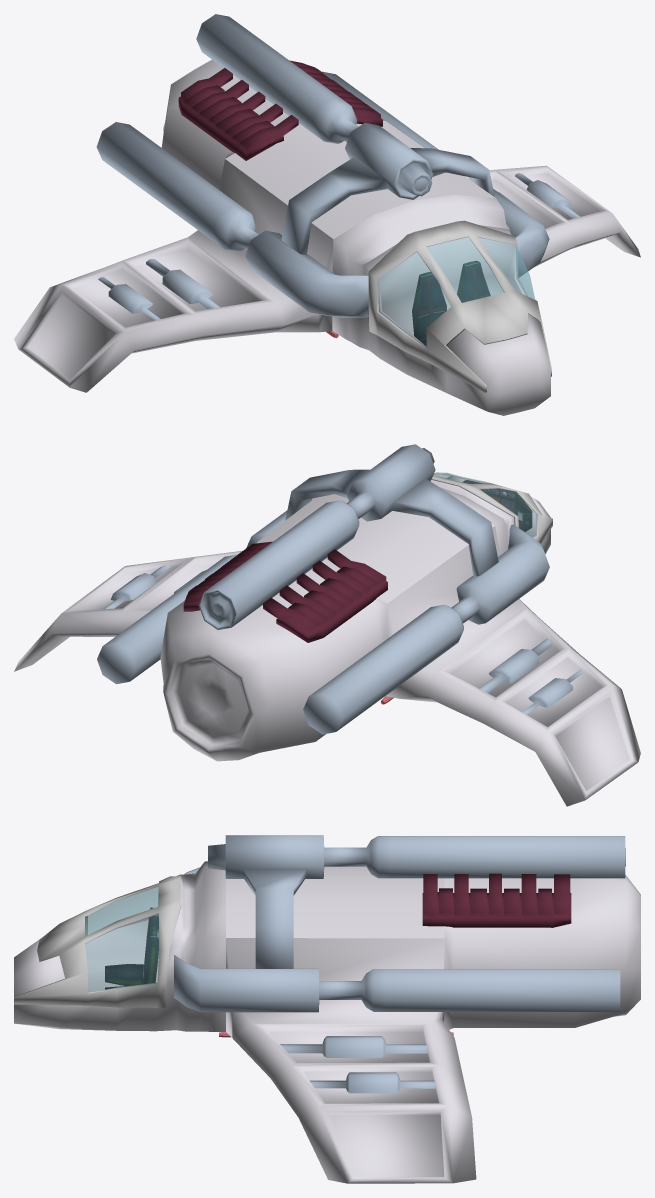
Rendered from Space_Cargo_Ship_FBX.fbx.
3 views of the same model, one above another, from view 1: azimuth 30°, elevation 25°; view 2: azimuth 150°, elevation 25°; view 3: azimuth 270°, elevation 25° (orthographic).
Visible parts, largest first — view 1: ship_body, ship_cabin, Solar_cells_Capacitator, fuel_tank_Left, solar_cells, fuel_tank_Right, ship_Sit, Air_Bust_002, Air_Bust_003, Air_Bust_001; view 2: ship_body, Solar_cells_Capacitator, fuel_tank_Left, solar_cells, fuel_tank_Right, ship_cabin, Air_Bust_002, Panel, Air_Bust_003, Air_Bust_001; view 3: ship_body, Solar_cells_Capacitator, fuel_tank_Right, ship_cabin, solar_cells, Air_Bust, Air_Bust_001, ship_Sit.
Part boxes in pixels (left/top/right/bottom): ship_body: left=14, top=60, right=640, bottom=415; ship_cabin: left=368, top=220, right=551, bottom=392; Solar_cells_Capacitator: left=196, top=14, right=494, bottom=255; fuel_tank_Left: left=96, top=122, right=368, bottom=317; solar_cells: left=178, top=60, right=382, bottom=160; fuel_tank_Right: left=322, top=71, right=549, bottom=277; ship_Sit: left=412, top=260, right=490, bottom=346; Air_Bust_002: left=146, top=259, right=219, bottom=309; Air_Bust_003: left=98, top=277, right=160, bottom=320; Air_Bust_001: left=515, top=173, right=580, bottom=218; ship_body: left=14, top=480, right=640, bottom=806; Solar_cells_Capacitator: left=198, top=444, right=498, bottom=629; fuel_tank_Left: left=303, top=524, right=549, bottom=734; solar_cells: left=183, top=541, right=387, bottom=642; fuel_tank_Right: left=97, top=498, right=314, bottom=684; ship_cabin: left=431, top=472, right=552, bottom=543; Air_Bust_002: left=479, top=639, right=551, bottom=692; Panel: left=463, top=480, right=532, bottom=531; Air_Bust_003: left=522, top=669, right=583, bottom=714; Air_Bust_001: left=104, top=565, right=170, bottom=608; ship_body: left=14, top=861, right=640, bottom=1183; Solar_cells_Capacitator: left=208, top=835, right=625, bottom=968; fuel_tank_Right: left=174, top=955, right=620, bottom=1012; ship_cabin: left=14, top=876, right=181, bottom=1007; solar_cells: left=422, top=873, right=571, bottom=927; Air_Bust: left=280, top=1036, right=427, bottom=1057; Air_Bust_001: left=310, top=1072, right=435, bottom=1093; ship_Sit: left=105, top=907, right=158, bottom=989.
Bounding box in the file's own units: 18.7 × 6.43 × 17.67.
